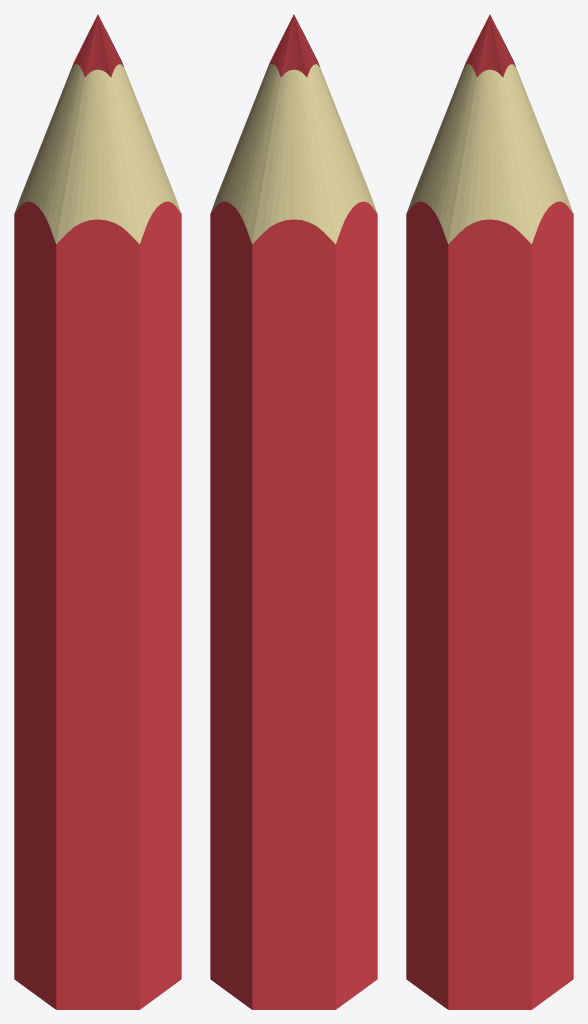
The model's file is PEN2.fbx.
3 views of the same model, side by side, from view 1: azimuth 30°, elevation 25°; view 2: azimuth 150°, elevation 25°; view 3: azimuth 270°, elevation 25° (orthographic).
Visible parts, largest first — view 1: Circle; view 2: Circle; view 3: Circle.
Part boxes in pixels (<box>): Circle: <box>14,14,181,1009</box>; Circle: <box>210,14,377,1009</box>; Circle: <box>406,14,573,1009</box>.
Bounding box in the file's own units: 173 × 1275 × 200.
